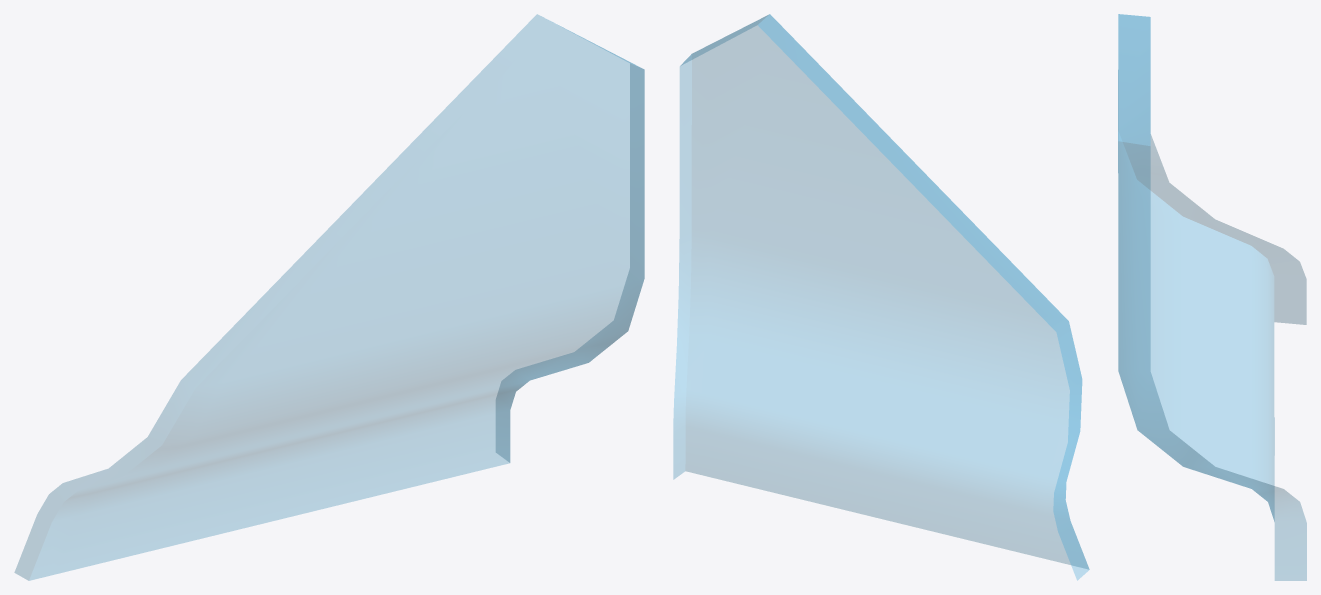
Rendered from p_hvs_minidungeon_rewardlocker_shatterglass_part010.fbx.
The picture shows the model from 3 angles, left to right: view 1: azimuth 30°, elevation 25°; view 2: azimuth 150°, elevation 25°; view 3: azimuth 270°, elevation 25°; orthographic projection. The views are drawn at different scales.
Visible parts, largest first — view 1: 10_shatterglass; view 2: 10_shatterglass; view 3: 10_shatterglass.
Part boxes in pixels (x1,y1,x2,y2): 10_shatterglass: [14, 14, 644, 580]; 10_shatterglass: [673, 14, 1089, 580]; 10_shatterglass: [1118, 14, 1306, 580].
Bounding box in the file's own units: 2.15 × 1.9 × 0.5861.
